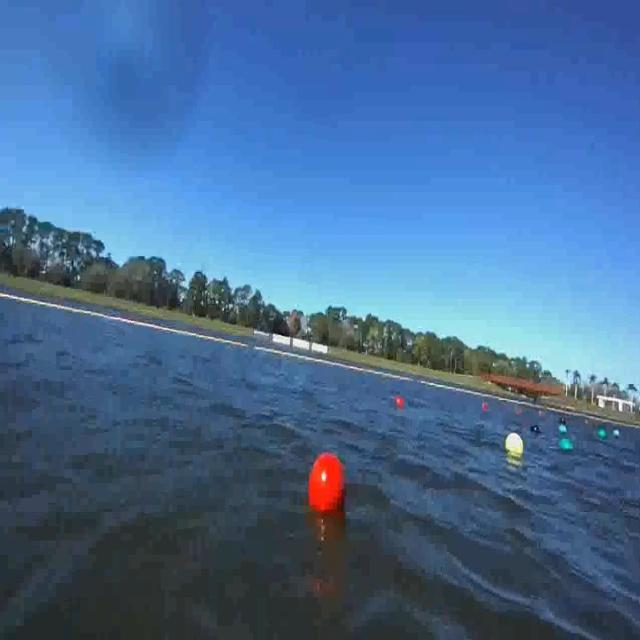black-buoy: (531, 424, 540, 436), (560, 418, 566, 424)
green-buoy: (560, 441, 573, 453), (598, 428, 607, 439), (559, 424, 566, 432)
red-buoy: (308, 451, 346, 518), (394, 396, 404, 408)
yellow-buoy: (504, 431, 522, 456)
